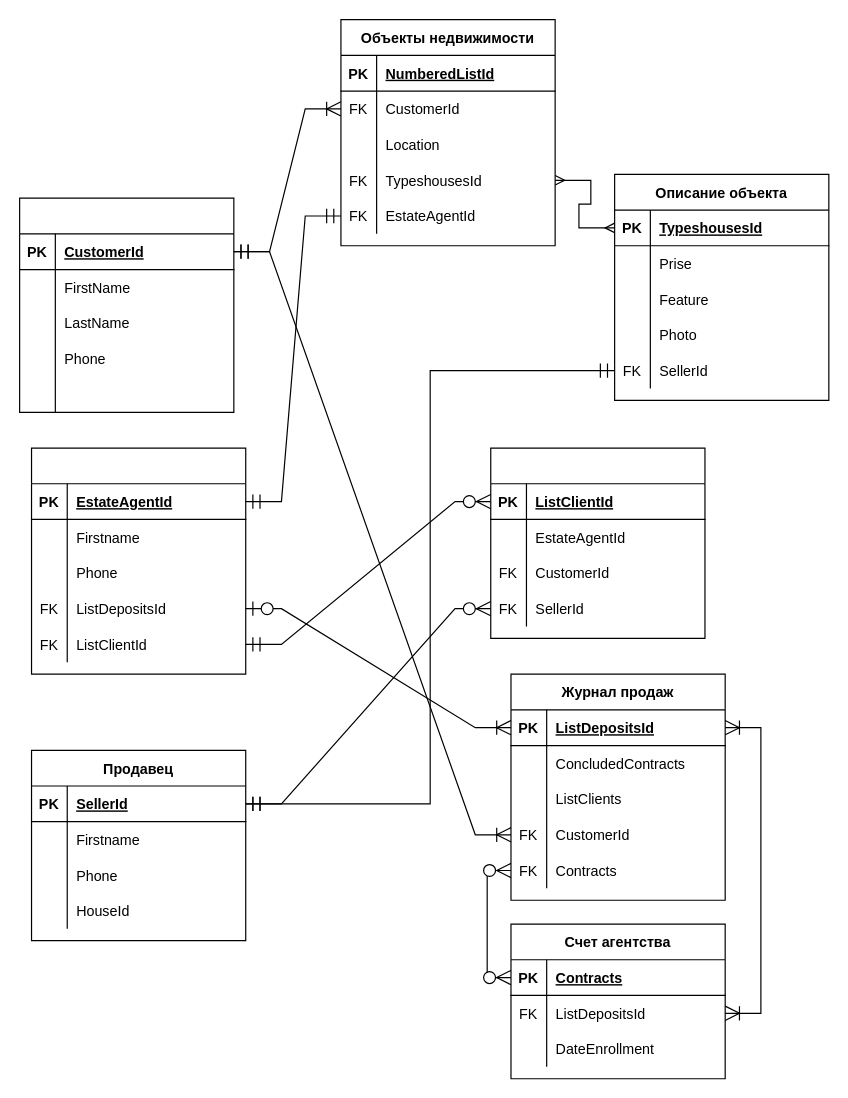
This 848x1098 diagram has some shape labels left out. The box of each missing label's shape, as (x1, y1, x2, y2) in pixels:
Агент недвижимости: (30, 447, 246, 674)
Журнал запросов на просмотров: (490, 447, 705, 638)
Покупатель: (18, 197, 234, 412)
